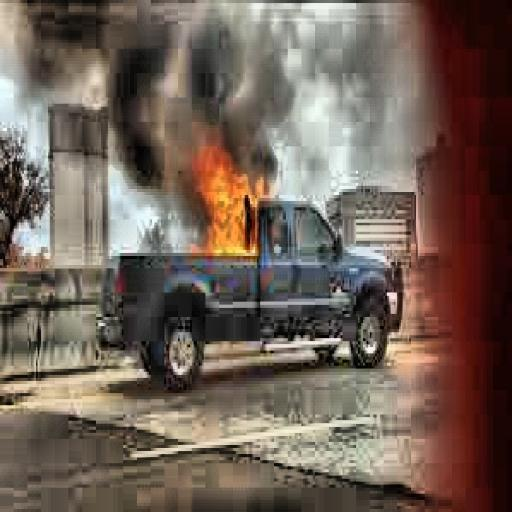fire: (178, 128, 276, 277)
